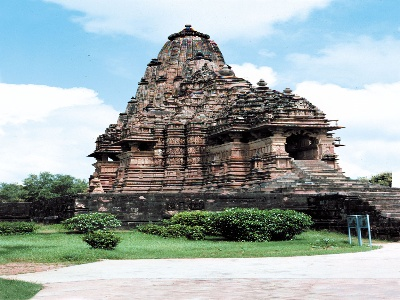amalaka: (162, 24, 224, 39)
gopuram: (131, 36, 240, 116)
mandapa: (240, 118, 345, 165), (87, 131, 159, 160)
